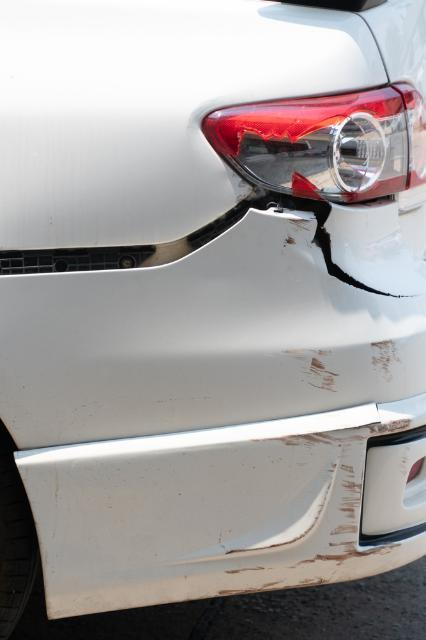crack: (312, 205, 425, 300)
dislocated part: (1, 188, 318, 284)
lamp broken: (203, 85, 410, 203)
scratch: (218, 416, 416, 595), (278, 345, 343, 392), (371, 337, 401, 383), (279, 215, 310, 255)
